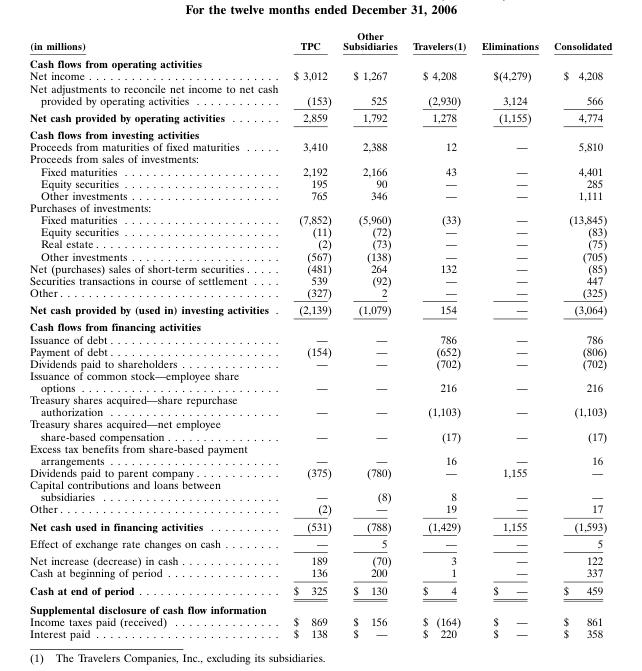table: (29, 28, 611, 639)
table column: (29, 28, 285, 639), (473, 28, 545, 639), (404, 28, 473, 639), (336, 28, 404, 639), (545, 28, 611, 639), (285, 28, 336, 639)
table column header: (29, 28, 611, 54)
table projected row header: (29, 54, 611, 69), (29, 125, 611, 140), (29, 599, 611, 614), (29, 318, 611, 332), (29, 152, 611, 164), (29, 201, 611, 213)
table row: (29, 81, 611, 108), (29, 28, 611, 54), (29, 441, 611, 466), (29, 369, 611, 393), (29, 393, 611, 417), (29, 417, 611, 441), (29, 478, 611, 502), (29, 300, 611, 318), (29, 581, 611, 599), (29, 108, 611, 125), (29, 517, 611, 534), (29, 534, 611, 551), (29, 54, 611, 69), (29, 125, 611, 140), (29, 502, 611, 517), (29, 551, 611, 566), (29, 566, 611, 581), (29, 599, 611, 614), (29, 286, 611, 300), (29, 318, 611, 332), (29, 188, 611, 201), (29, 273, 611, 286), (29, 356, 611, 369), (29, 614, 611, 627), (29, 69, 611, 81), (29, 140, 611, 152), (29, 152, 611, 164), (29, 164, 611, 176), (29, 176, 611, 188), (29, 201, 611, 213), (29, 213, 611, 225), (29, 225, 611, 237), (29, 237, 611, 249), (29, 249, 611, 261), (29, 261, 611, 273), (29, 332, 611, 344), (29, 344, 611, 356), (29, 466, 611, 478), (29, 627, 611, 639)
